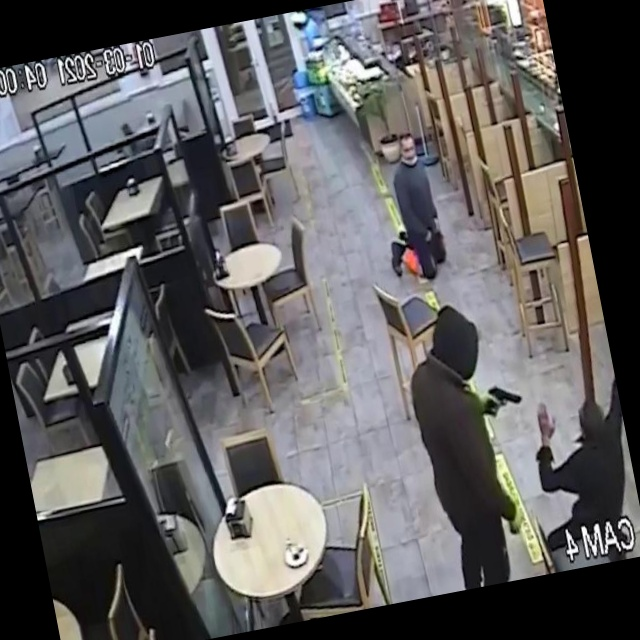gun: (475, 364, 536, 430)
